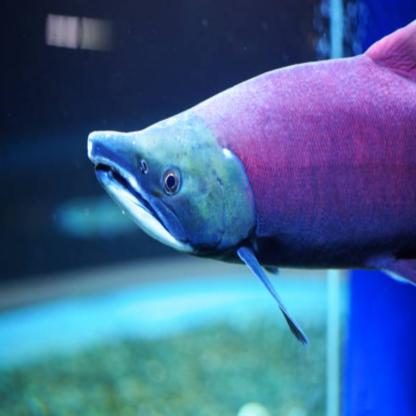sockeye: (78, 16, 416, 257)
